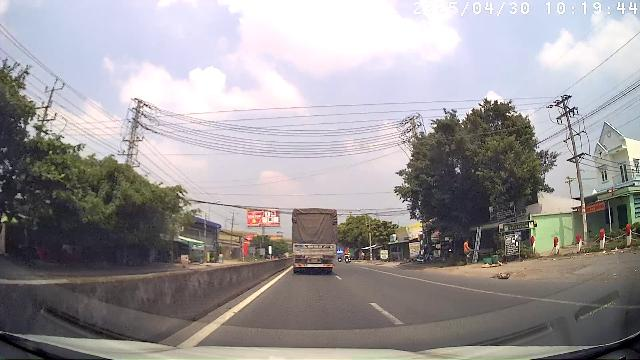420-bat-dau-khu-dong-dan-cu: (336, 248, 344, 253)
